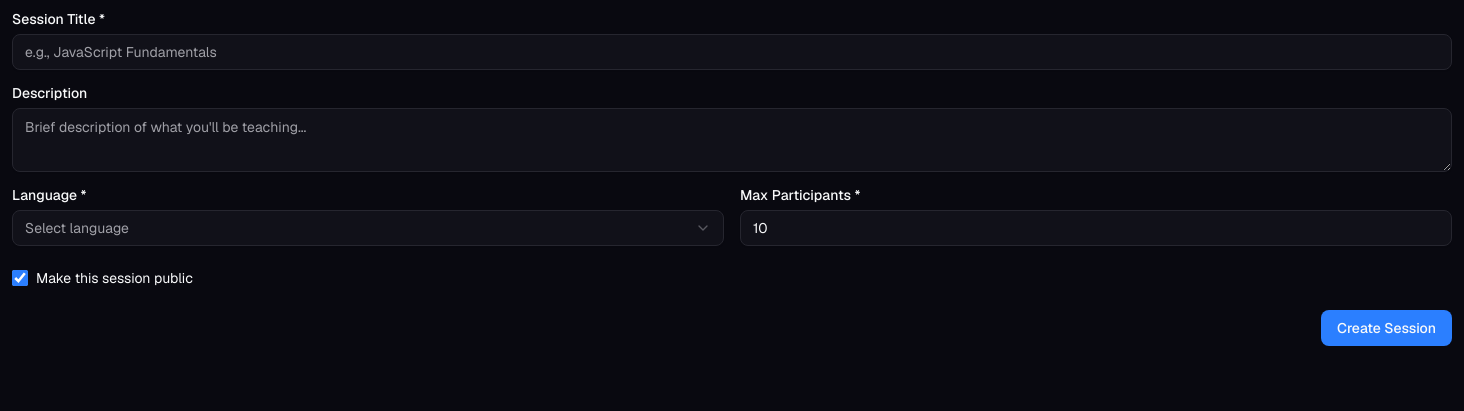
Test: CreateSessionForm › validates title length
Type "ab" into the field labelled "Session Title *".
click(732, 52); type("ab")  # box [12,34,1452,70]
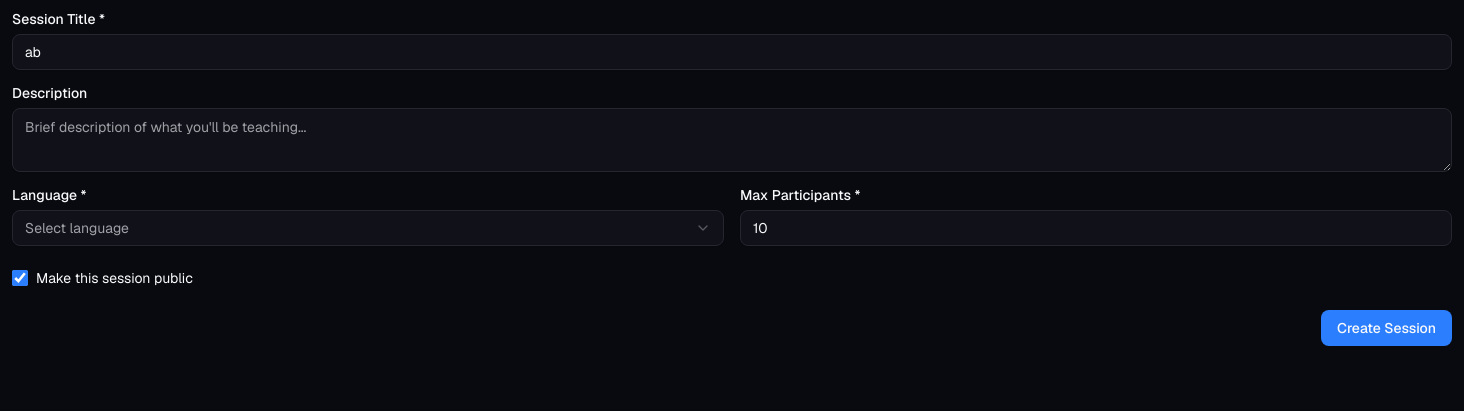
Click the button "Create Session".
click(1386, 328)  # box [1321,310,1452,346]
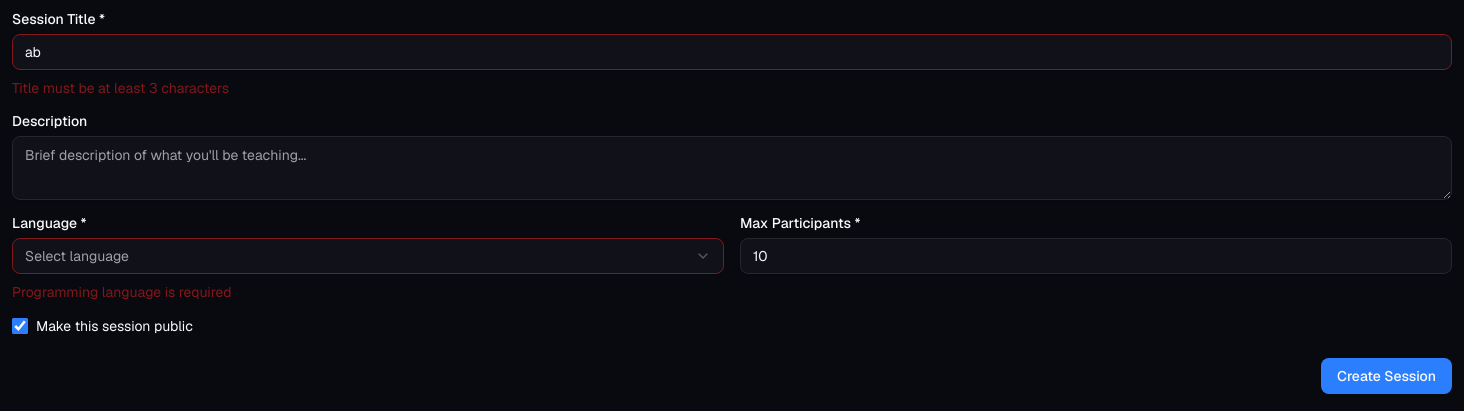
Result: the text "Title must be at least 3 characters" is shown at [12,79,229,97]
